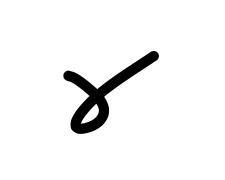a: (53, 65, 119, 140)
